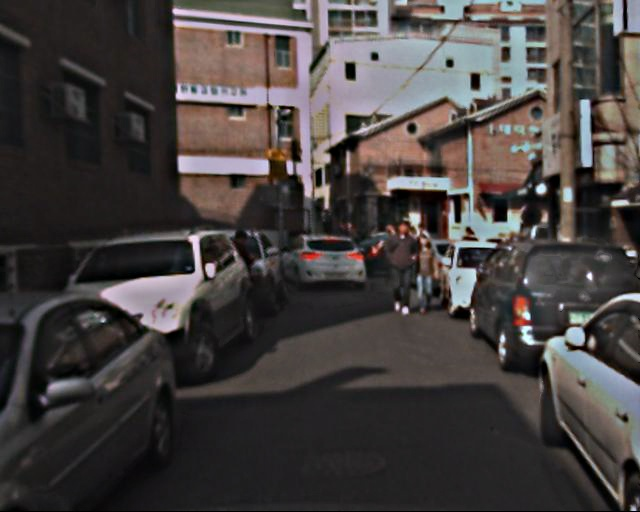person: (382, 218, 422, 316), (225, 229, 261, 318), (408, 233, 441, 314)
